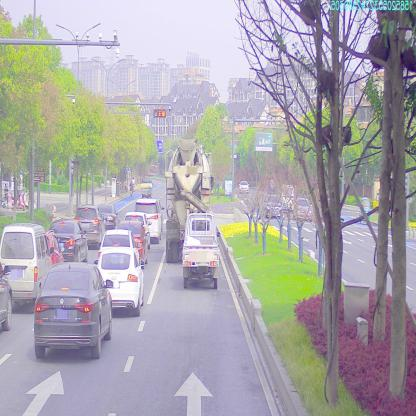traffic-light: (154, 110, 166, 117)
